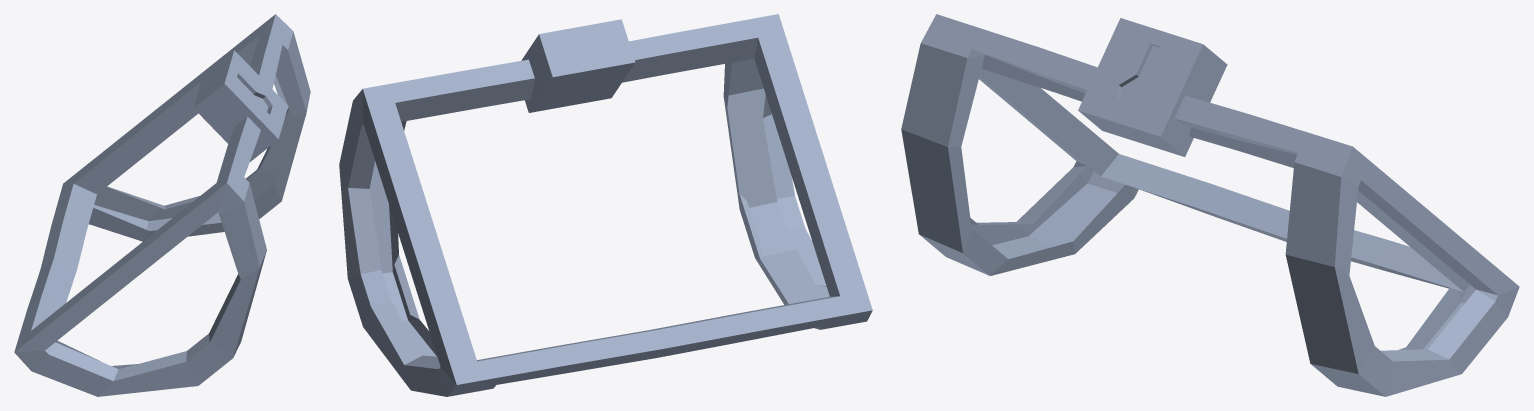
Rendered from n2_chest_top_light_grey_0_lev2.003.glb.
The picture shows the model from 3 angles, left to right: view 1: azimuth 30°, elevation 25°; view 2: azimuth 150°, elevation 25°; view 3: azimuth 270°, elevation 25°; orthographic projection. The views are drawn at different scales.
Parts seen in each view (by area): view 1: n2_chest_top_light_grey_0_lev2.003; view 2: n2_chest_top_light_grey_0_lev2.003; view 3: n2_chest_top_light_grey_0_lev2.003.
Part boxes in pixels (box(x1,y1,x2,y2)): n2_chest_top_light_grey_0_lev2.003: box(14, 14, 310, 396); n2_chest_top_light_grey_0_lev2.003: box(339, 14, 872, 396); n2_chest_top_light_grey_0_lev2.003: box(901, 14, 1519, 396).
Bounding box in the file's own units: 2 × 1.23 × 2.14.
